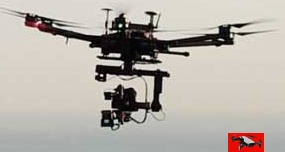drone: (7, 7, 260, 131), (228, 133, 264, 152)
